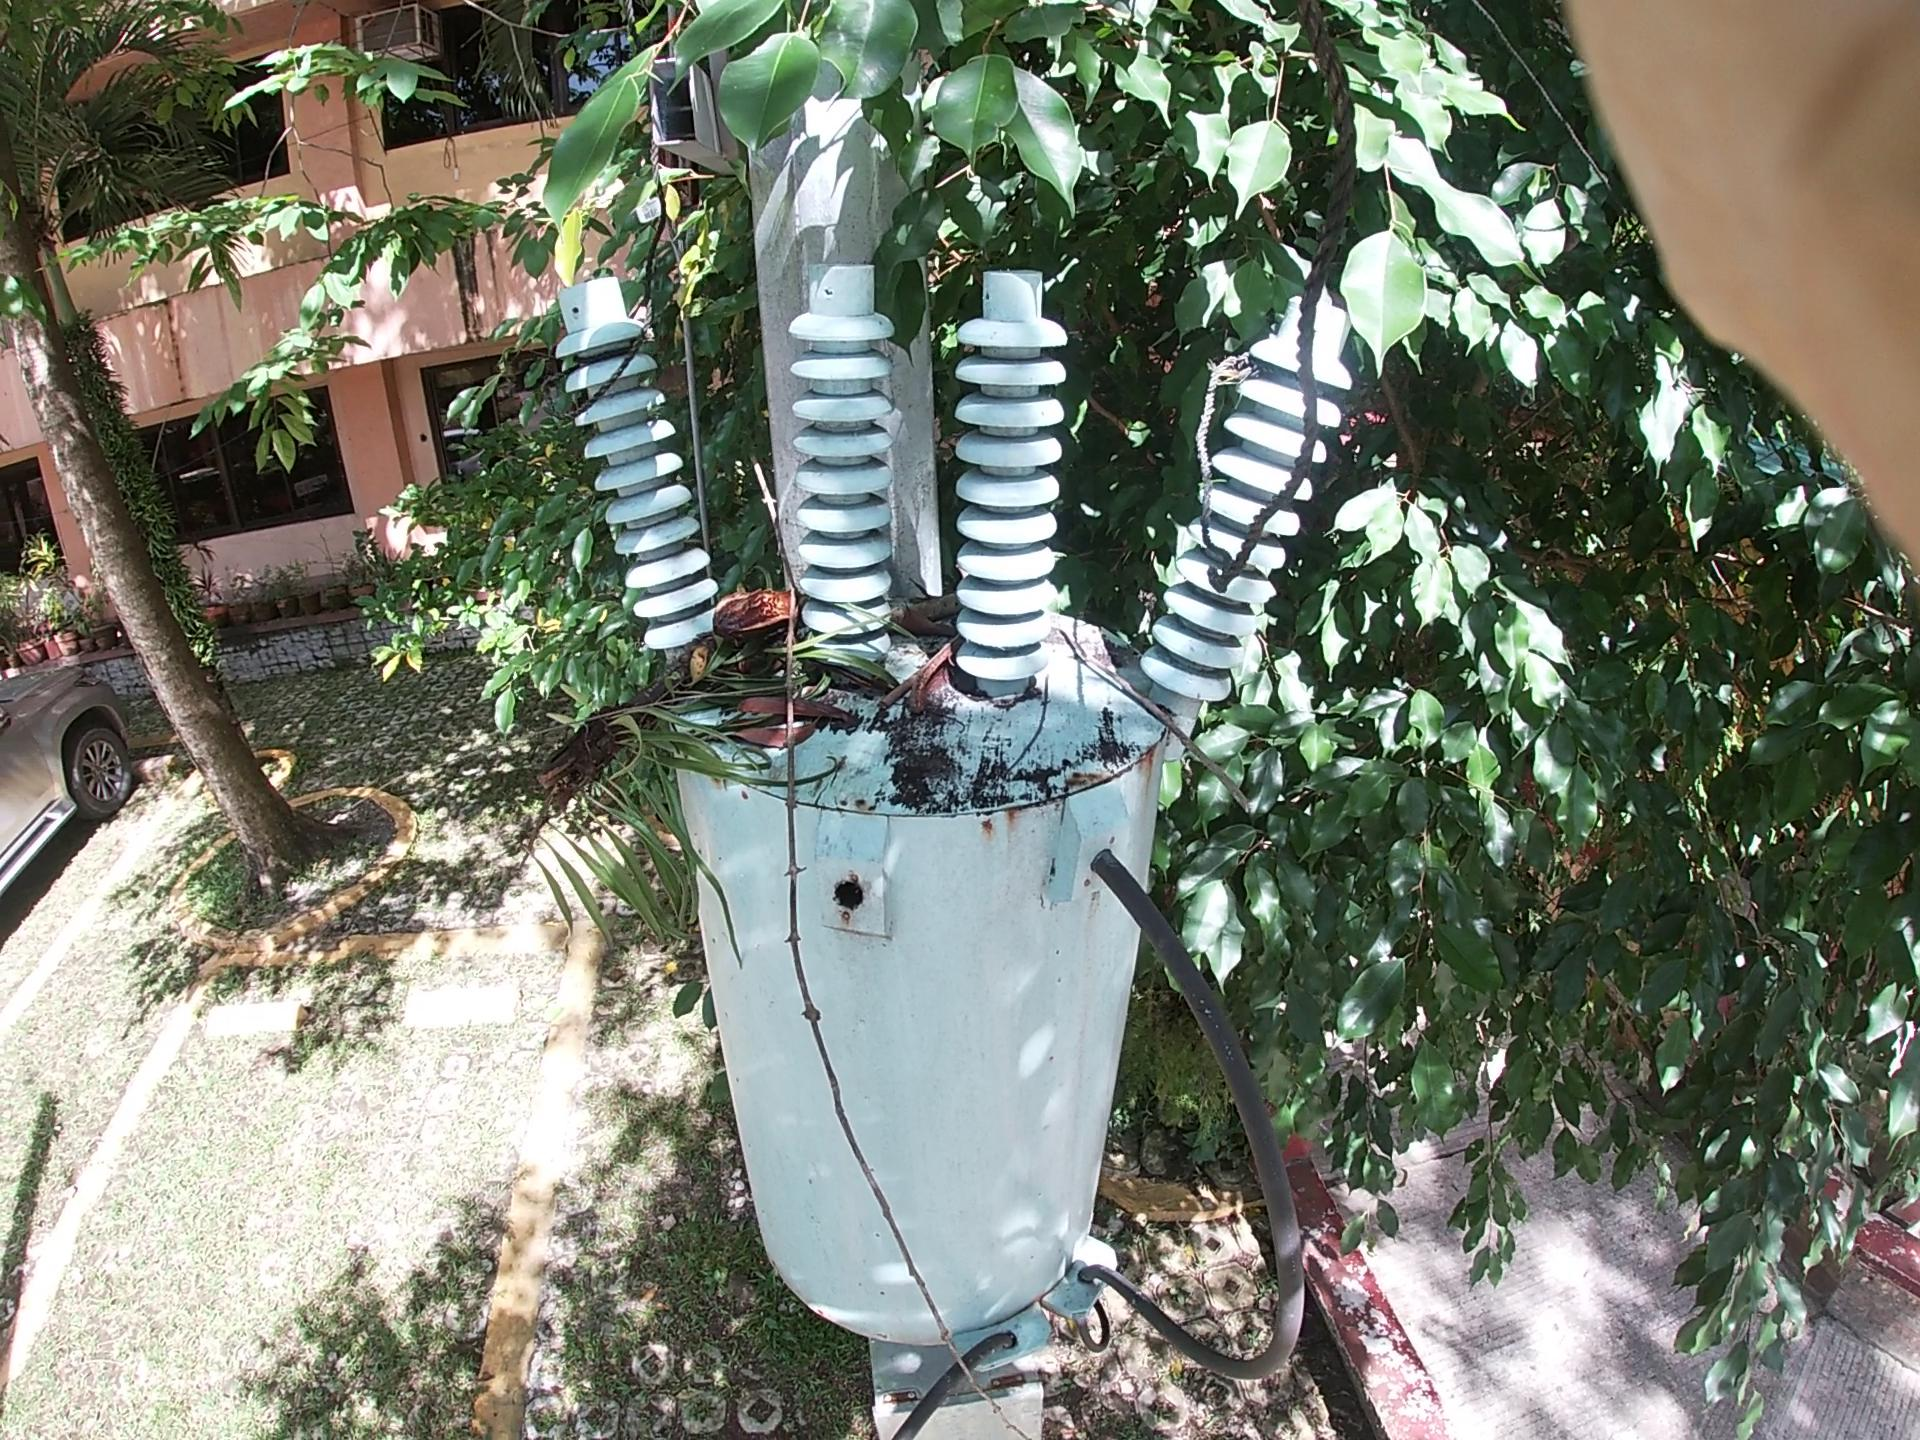branch with leaves: (499, 591, 813, 933)
leaf: (723, 655, 878, 797)
mahogany fruit: (689, 555, 831, 694), (874, 576, 962, 749)
tree branch: (736, 437, 952, 1275), (1061, 560, 1358, 951), (877, 411, 1028, 756)
